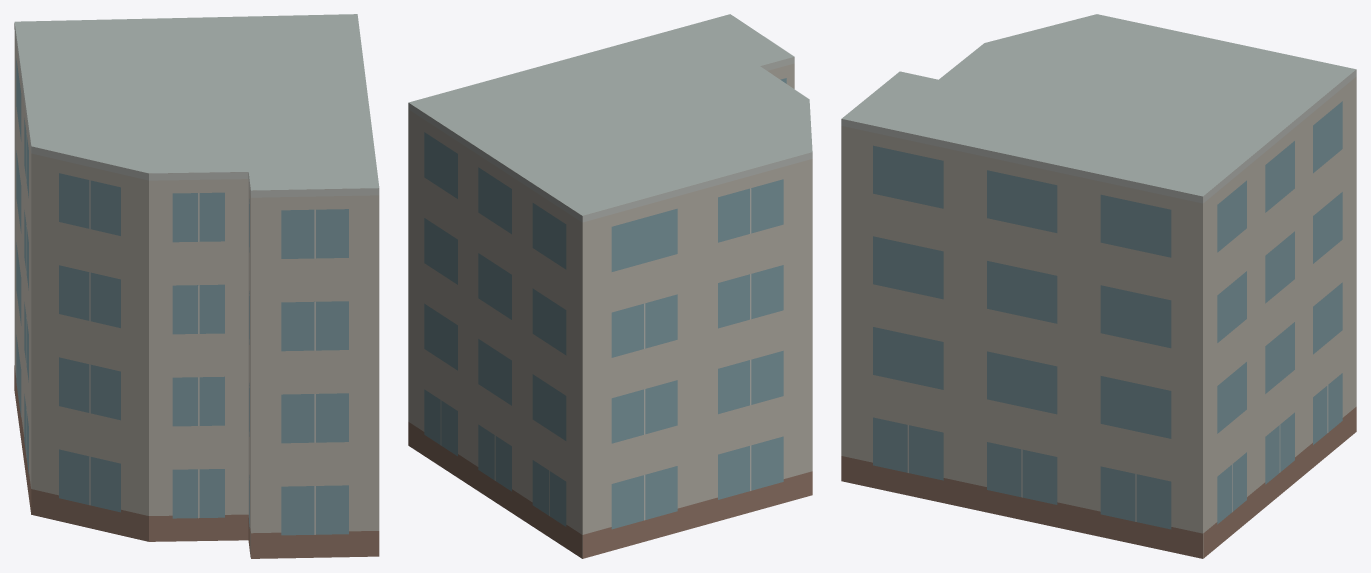
Rendered from survey-upis-33010128.glb.
3 views of the same model, side by side, from view 1: azimuth 30°, elevation 25°; view 2: azimuth 150°, elevation 25°; view 3: azimuth 270°, elevation 25° (orthographic). The views are drawn at different scales.
Visible parts, largest first — view 1: survey-upis-33010128.tmp; view 2: survey-upis-33010128.tmp; view 3: survey-upis-33010128.tmp.
Part boxes in pixels (x1,y1,x2,y2): survey-upis-33010128.tmp: [14, 14, 379, 558]; survey-upis-33010128.tmp: [408, 14, 812, 558]; survey-upis-33010128.tmp: [841, 14, 1356, 558].
Size of the model in its own units: 13.47 by 12.46 by 16.06.
